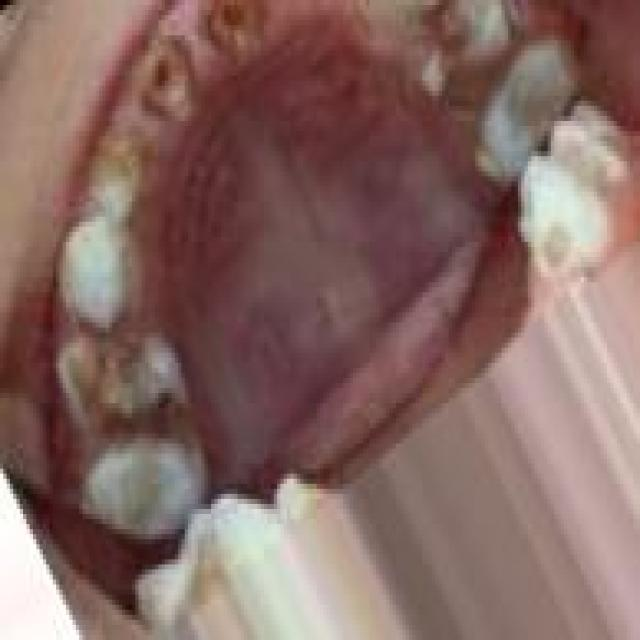caries: (55, 336, 194, 471), (436, 42, 526, 137), (90, 117, 154, 232), (126, 32, 190, 144), (197, 0, 280, 66), (410, 2, 475, 68)
